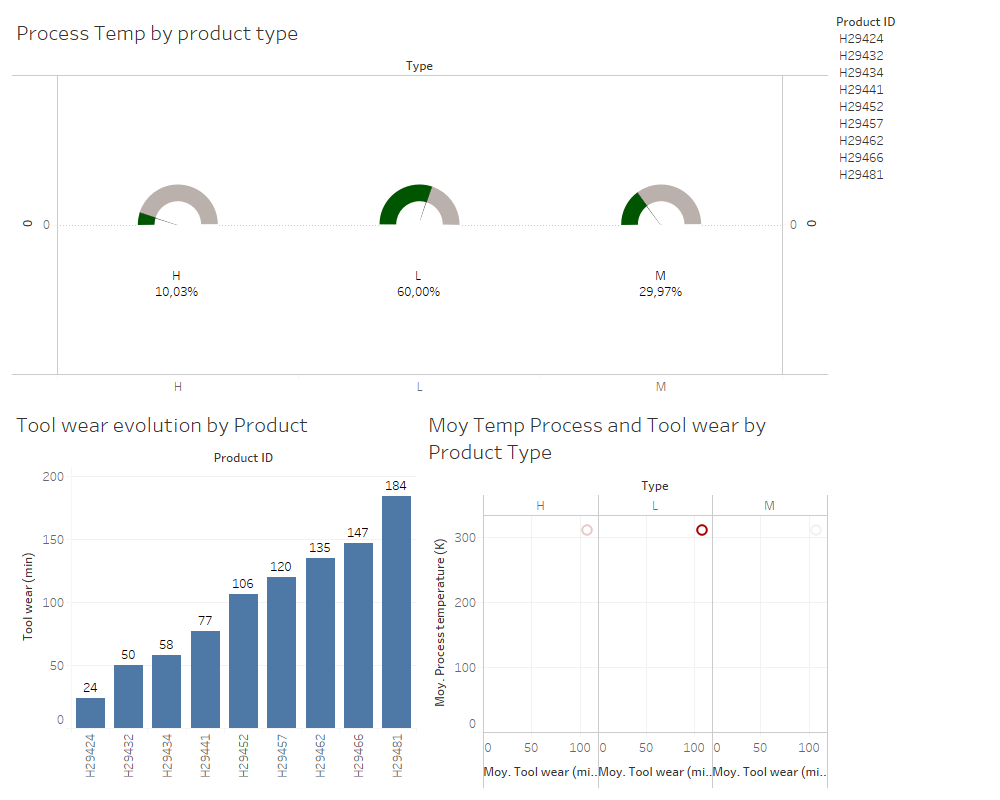

Layout of this report page (visuals, bound fields, positions):
{"tool":"tableau","page":{"name":"Tableau de bord 1","canvas":[1000,800],"ordinal":0},"visuals":[{"type":"worksheet","title":"Feuille 2","mark":"Pie","rows":["Calculation_511158612782354435","Calculation_511158612782379013"],"cols":["Type"],"box":[8,8,824,392]},{"type":"filter","title":"Feuille 1","param":"[federated.1yhmu4817rw05b1h65xwd1c2aicg].[none:Product ID:nk]","box":[832,8,160,234]},{"type":"worksheet","title":"Feuille 1","mark":"Bar","rows":["Tool wear (min)"],"cols":["Product ID"],"box":[8,400,412,392]},{"type":"worksheet","title":"Feuille 3","mark":"Automatic","rows":["Process temperature (K)"],"cols":["Type","Tool wear (min)"],"box":[420,400,412,392]}]}

Visuals, with their boxes in screenshot pixels (x1, y1, x2, y2), scaled from the page's 1000x800 canvas onto the 1000x800 screenshot:
"Feuille 2" worksheet (Pie marks): crop(8, 8, 832, 400)
"Feuille 1" filter: crop(832, 8, 992, 242)
"Feuille 1" worksheet (Bar marks): crop(8, 400, 420, 792)
"Feuille 3" worksheet: crop(420, 400, 832, 792)
